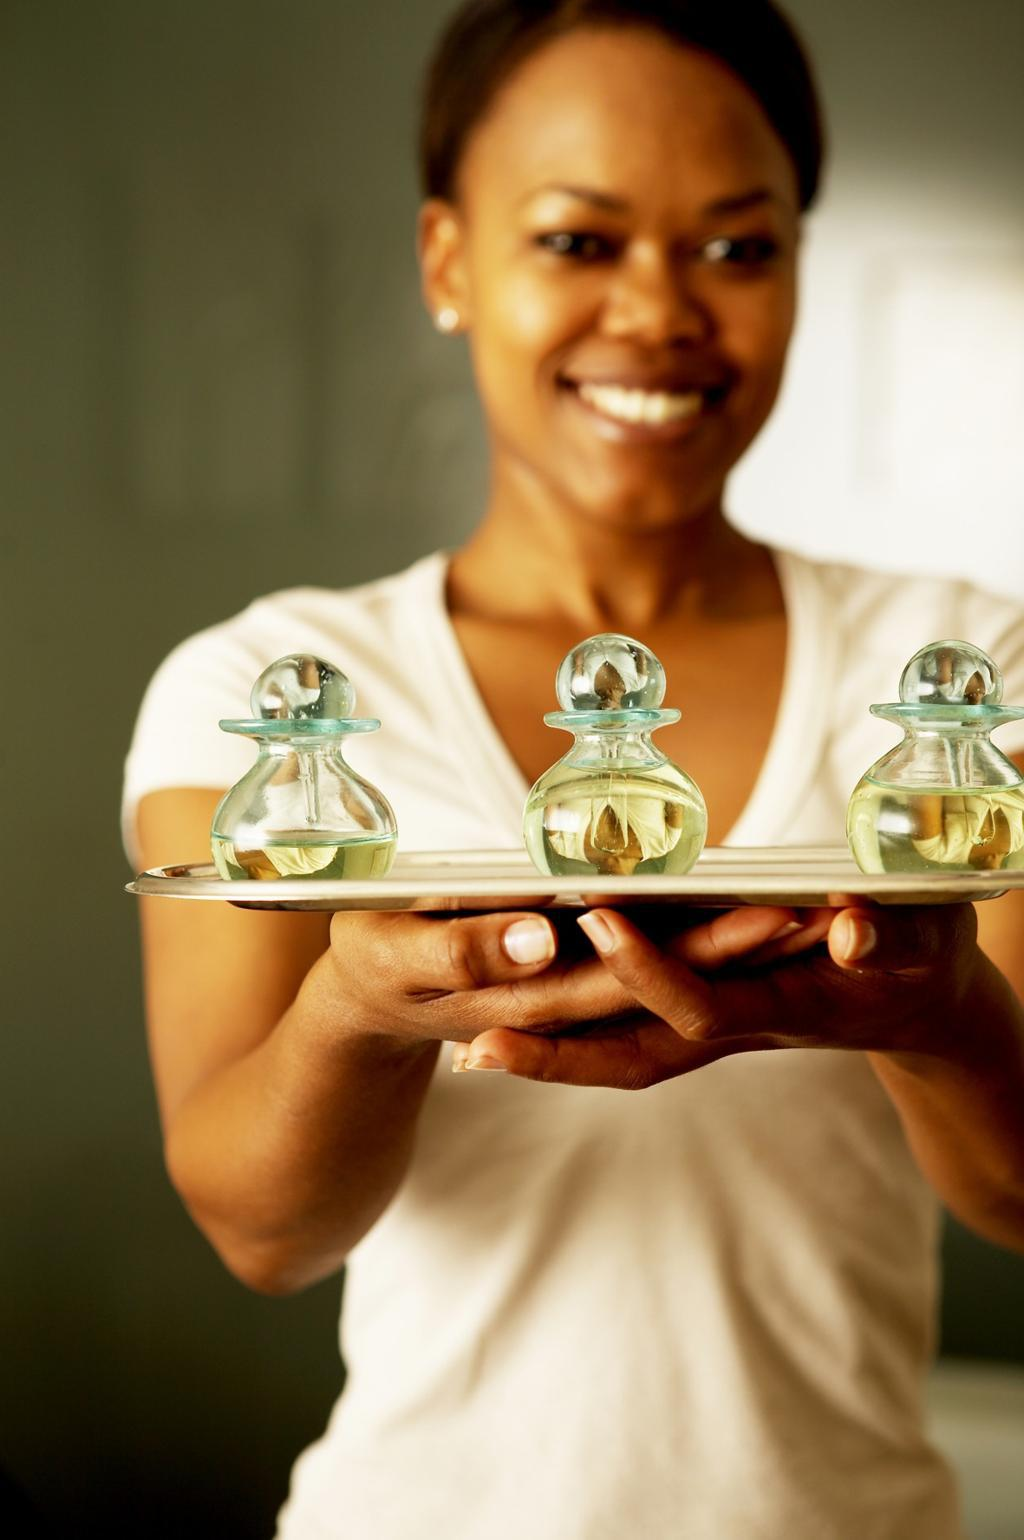face: (450, 88, 799, 522)
